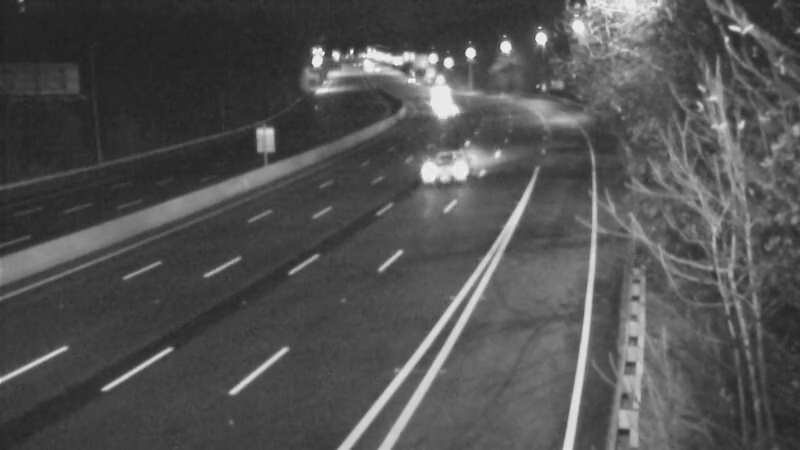vehicle: (413, 127, 493, 207), (414, 66, 464, 116), (419, 74, 469, 124), (423, 88, 473, 138)
